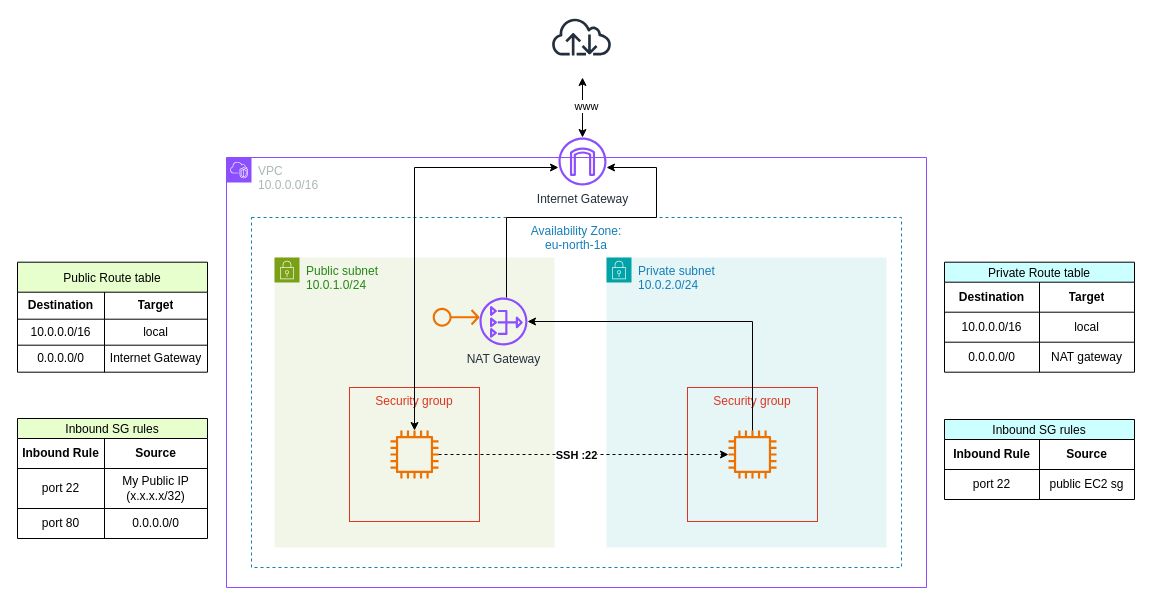
Image size: 1152x605. Some labels were removed from this diagram. Each missing label, with the centre of its shape:
Elastic IP: [455,316]
Internet: [581,36]
Private EC2 instance: [752,454]
Public EC2 instance: [414,454]
